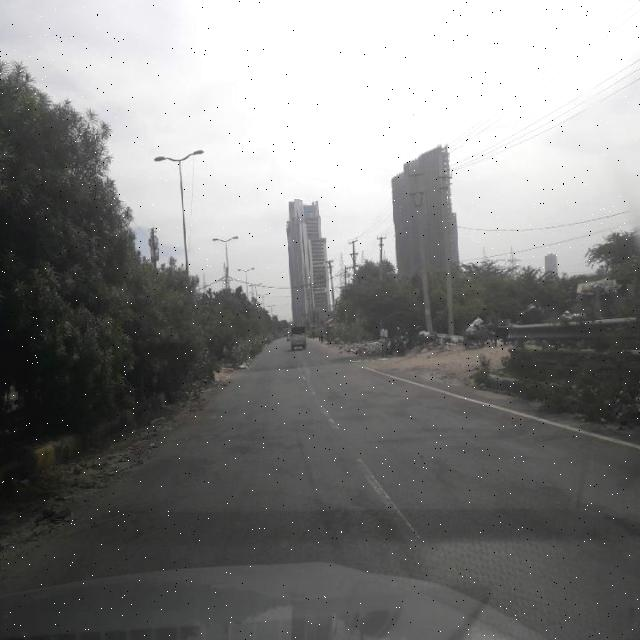D44: (353, 453, 427, 543), (303, 378, 337, 428)
